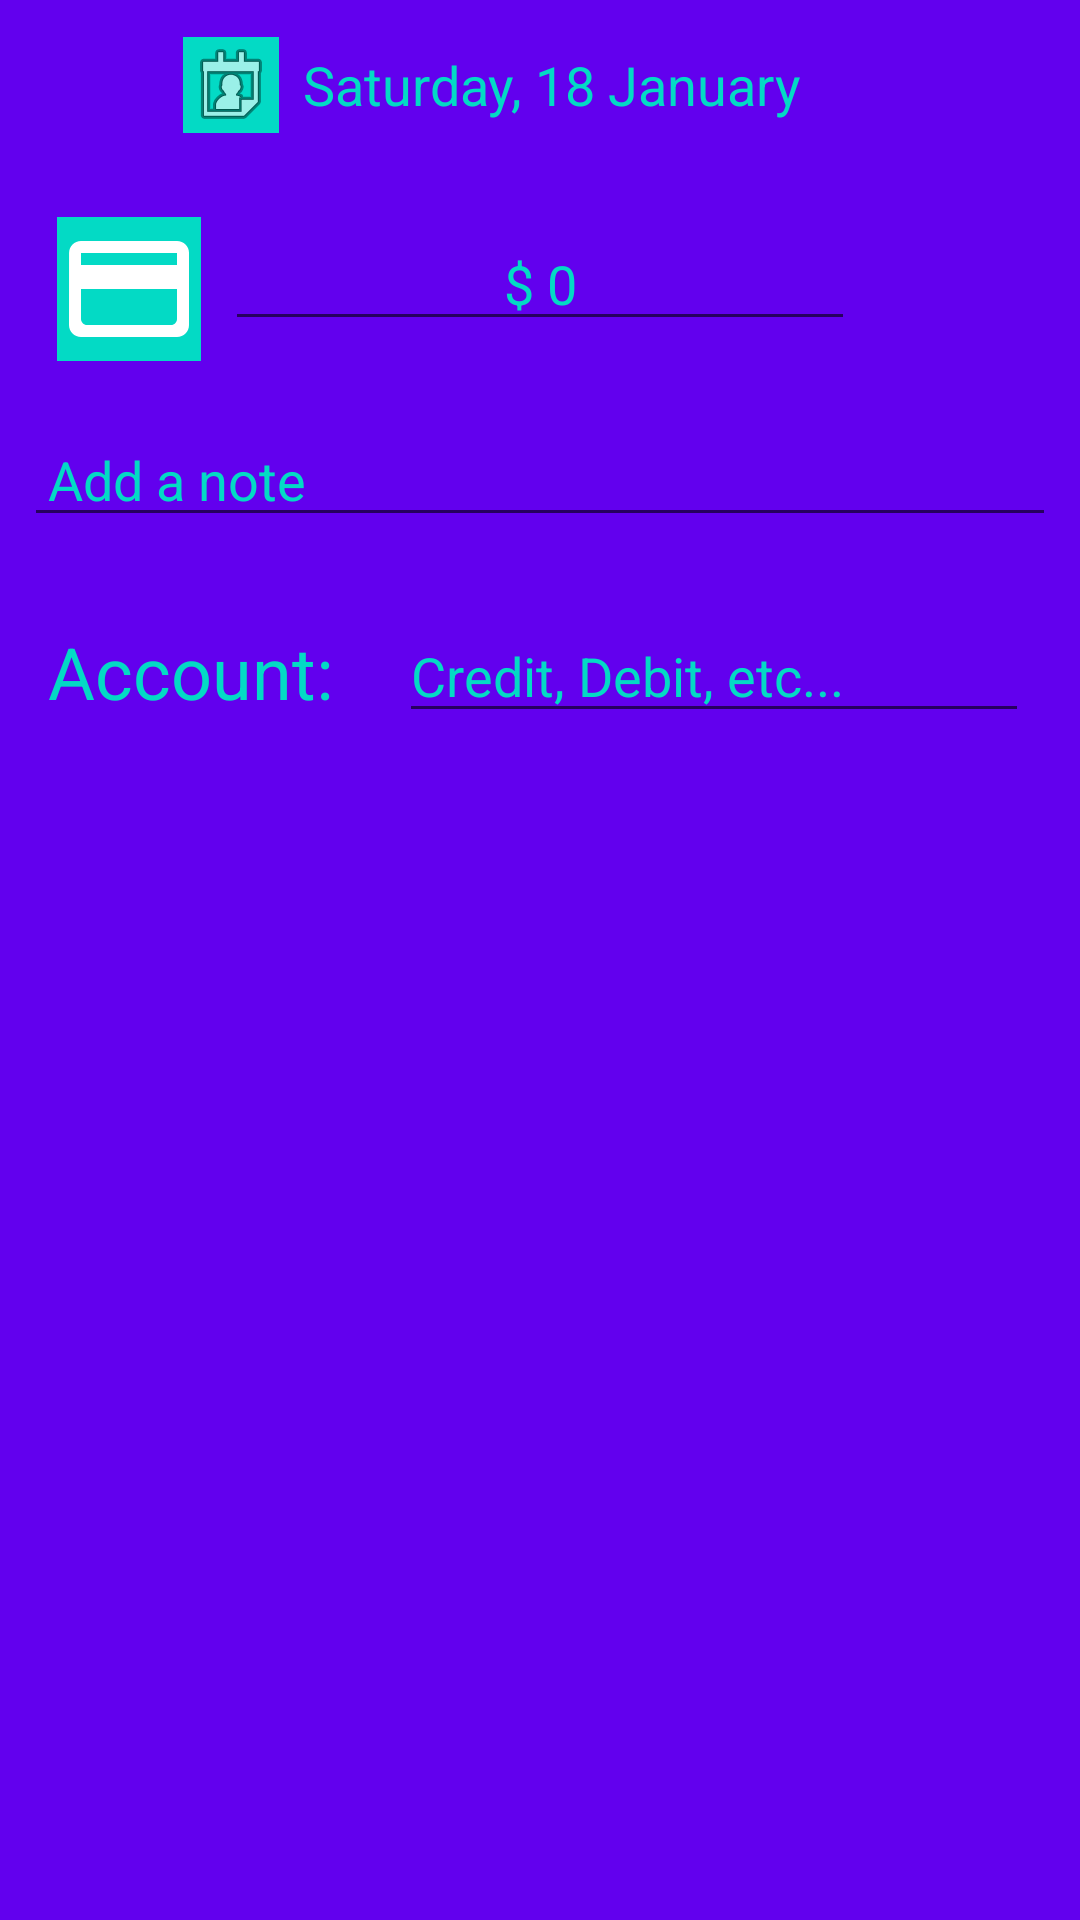

Screen size 1080w x 1920h. Icon name, then its center in pixels as [x,y]:
calendar: [231,85]
credit card: [129,289]
